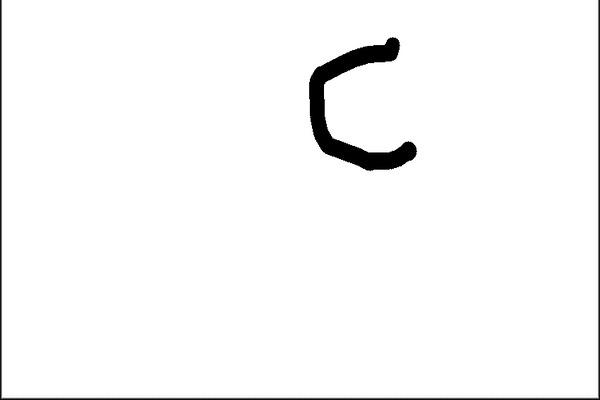C: (302, 32, 419, 174)
